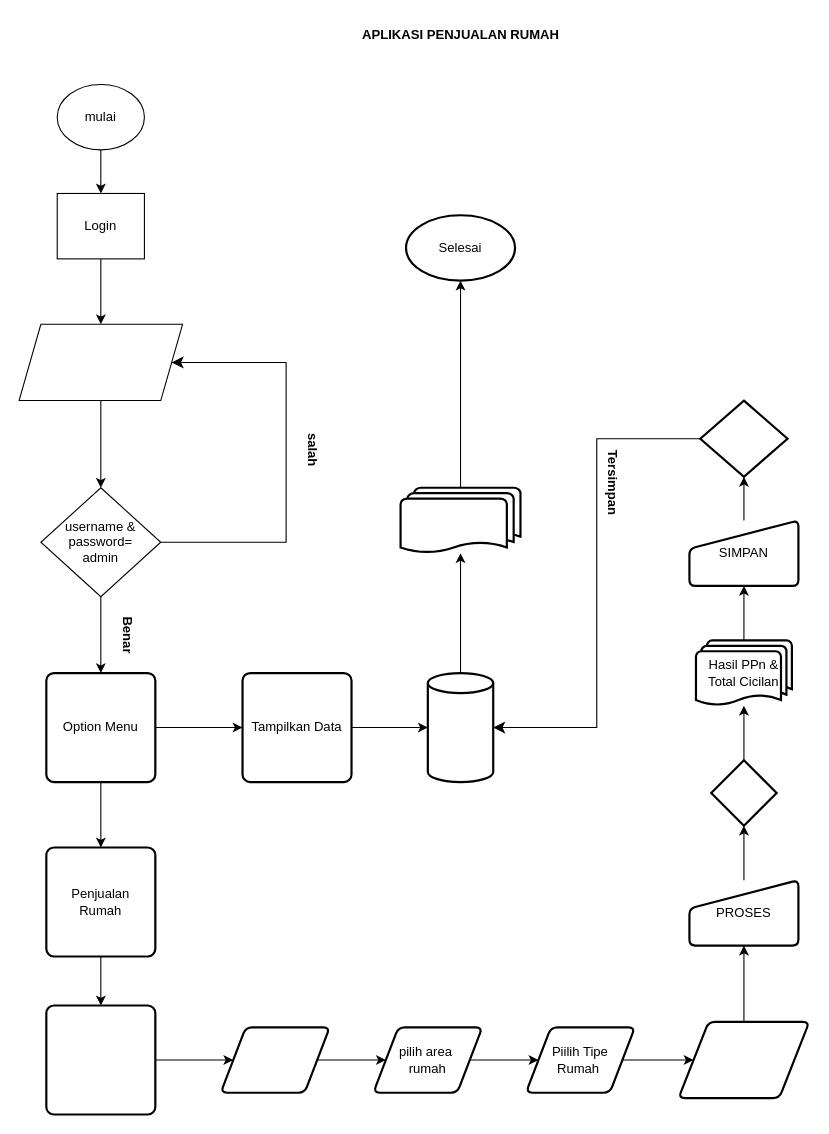
The diagram is 829 pixels wide and 1134 high, and some of its shapes have lost their labels. The centre of each missing label's shape, as x and y in pixels:
"Daftar Rumah yang Terjual" belongs at point 460,520.
"Data Rumah yang Terjual" belongs at point 460,727.
"Form Penjualan" belongs at point 100,1059.
"isi DP & Tentukan Lama Cicilan" belongs at point 743,1059.
"isi nama pemesan" belongs at point 274,1059.
"masukan username & password" belongs at point 100,362.
